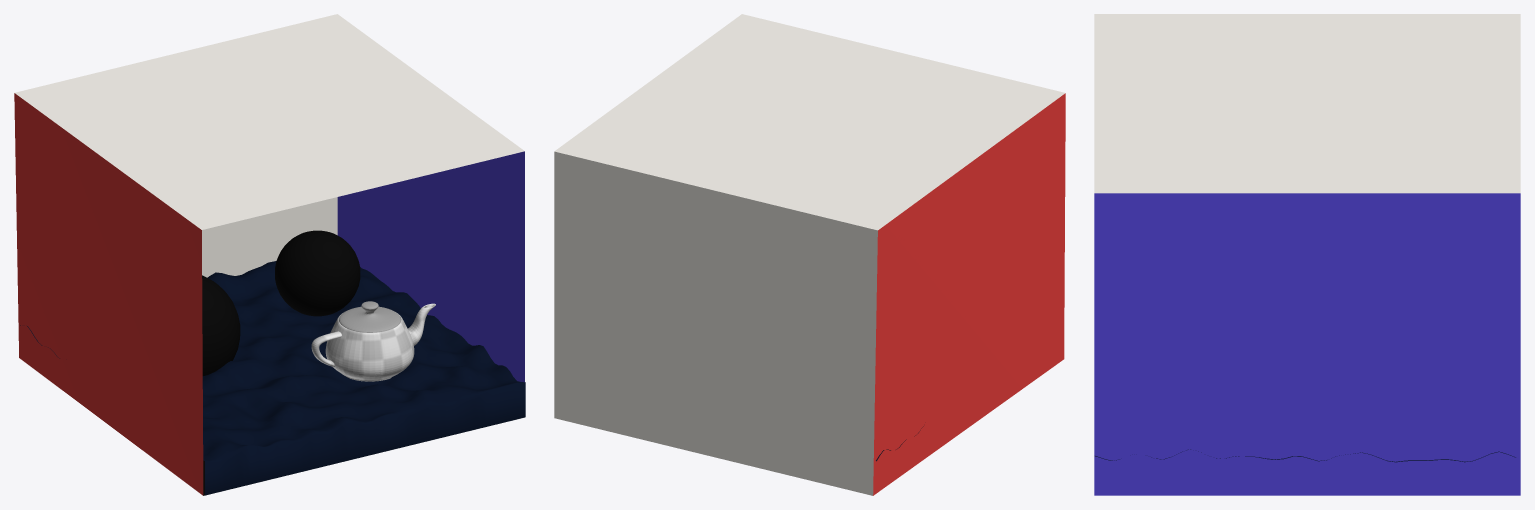
3 views of the same model, side by side, from view 1: azimuth 30°, elevation 25°; view 2: azimuth 150°, elevation 25°; view 3: azimuth 270°, elevation 25° (orthographic). The views are drawn at different scales.
Visible parts, largest first — view 1: ceiling, leftWall, water, rightWall, rightSphere, backWall, Base, leftSphere, Top; view 2: backWall, ceiling, leftWall; view 3: rightWall, ceiling.
Boxes of the visible parts, bbox=[...] form: ceiling: bbox=[14, 14, 524, 229]; leftWall: bbox=[14, 93, 203, 495]; water: bbox=[20, 261, 525, 495]; rightWall: bbox=[337, 151, 524, 382]; rightSphere: bbox=[275, 230, 360, 316]; backWall: bbox=[202, 197, 337, 277]; Base: bbox=[311, 303, 435, 381]; leftSphere: bbox=[202, 275, 240, 376]; Top: bbox=[339, 301, 400, 332]; backWall: bbox=[554, 151, 877, 495]; ceiling: bbox=[554, 14, 1065, 230]; leftWall: bbox=[873, 93, 1065, 495]; rightWall: bbox=[1094, 193, 1520, 495]; ceiling: bbox=[1094, 14, 1520, 193].
Size of the model in its own units: 2.02 by 1.59 by 2.03.
11 materials, 1 textured.
